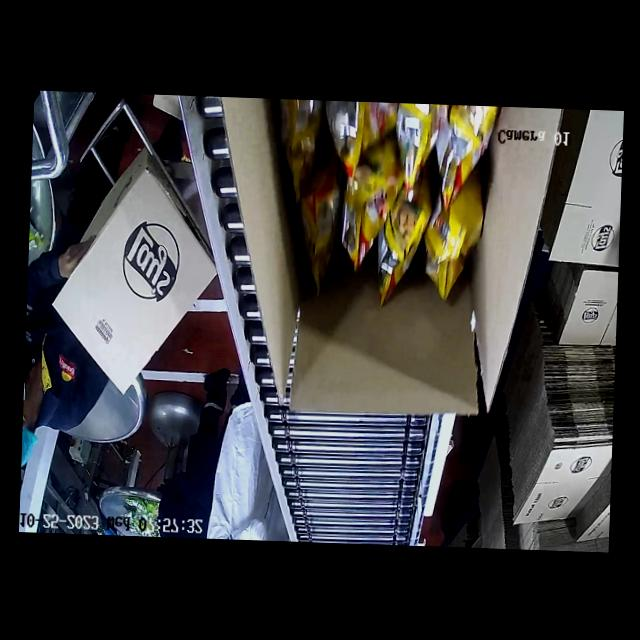salted: (306, 98, 488, 320)
